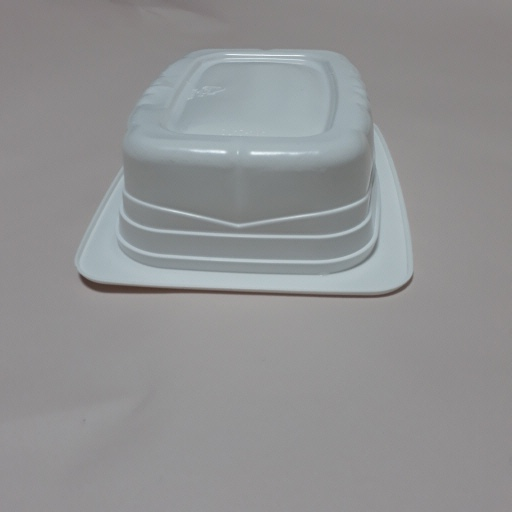Plastic_4: (76, 47, 415, 299)
